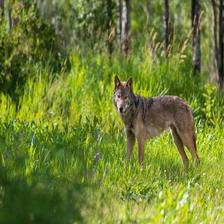WOLF: (113, 77, 201, 171)
